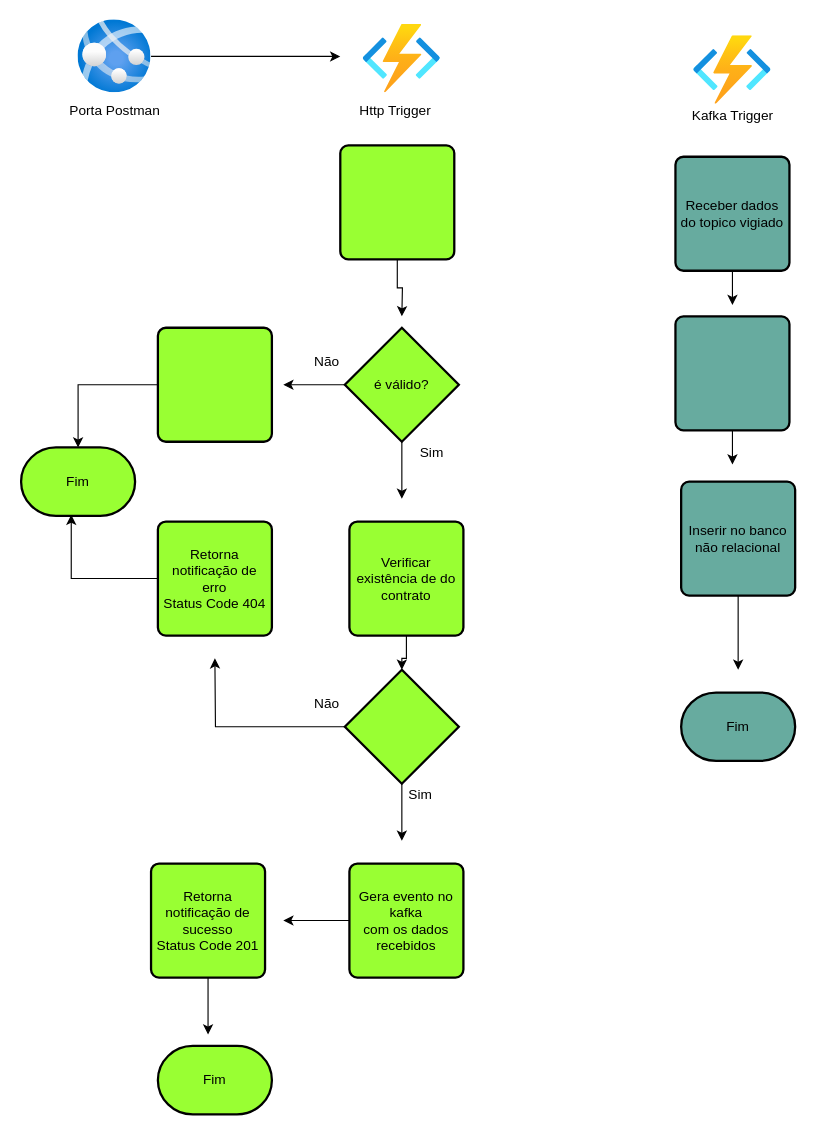
This 815x1134 diagram has some shape labels left out. Here are the shapes that lost their labels. From the top down, the centre of each, then its label:
At (x=397, y=202): "Validar contrato".
At (x=214, y=384): "Retorna notificação de erro Status Code 400".
At (x=732, y=373): "Transformar nos dados da entidade".
At (x=401, y=726): "existe?".
